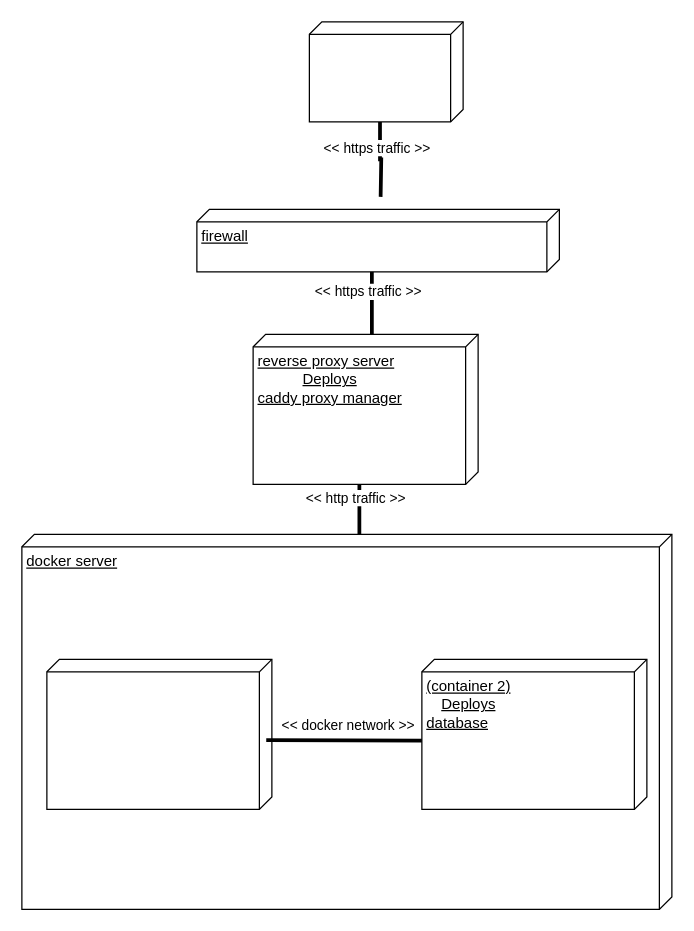
This 694x931 diagram has some shape labels left out. Each missing label, with the centre of its shape:
"(container 1) Deploys api server and http server single binary go application" goes at point 159,733.
"client devices" goes at point 385,71.
